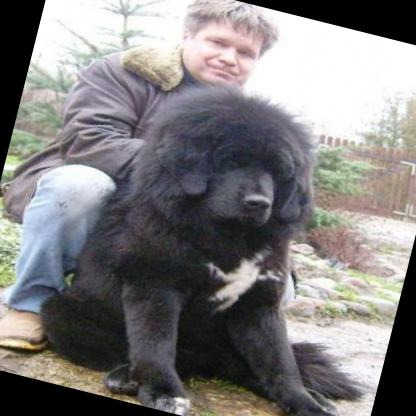Tibetan_mastiff: (23, 50, 416, 416)
